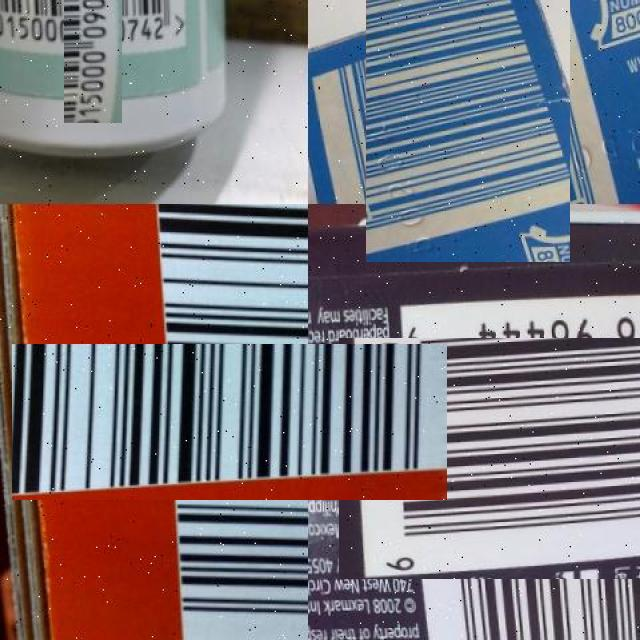Barcode: (82, 274, 378, 570), (369, 308, 640, 609), (337, 0, 599, 233), (33, 0, 155, 90)
